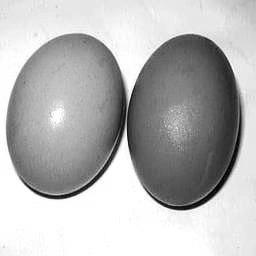telur: (4, 30, 126, 204), (127, 30, 241, 211)
